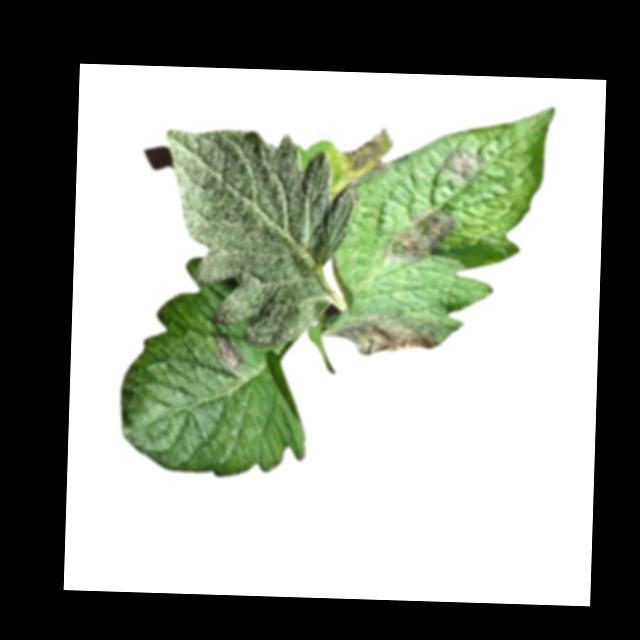Late_blight: (326, 310, 454, 359), (379, 204, 455, 272), (336, 125, 393, 196), (439, 147, 491, 185), (217, 336, 247, 371)
